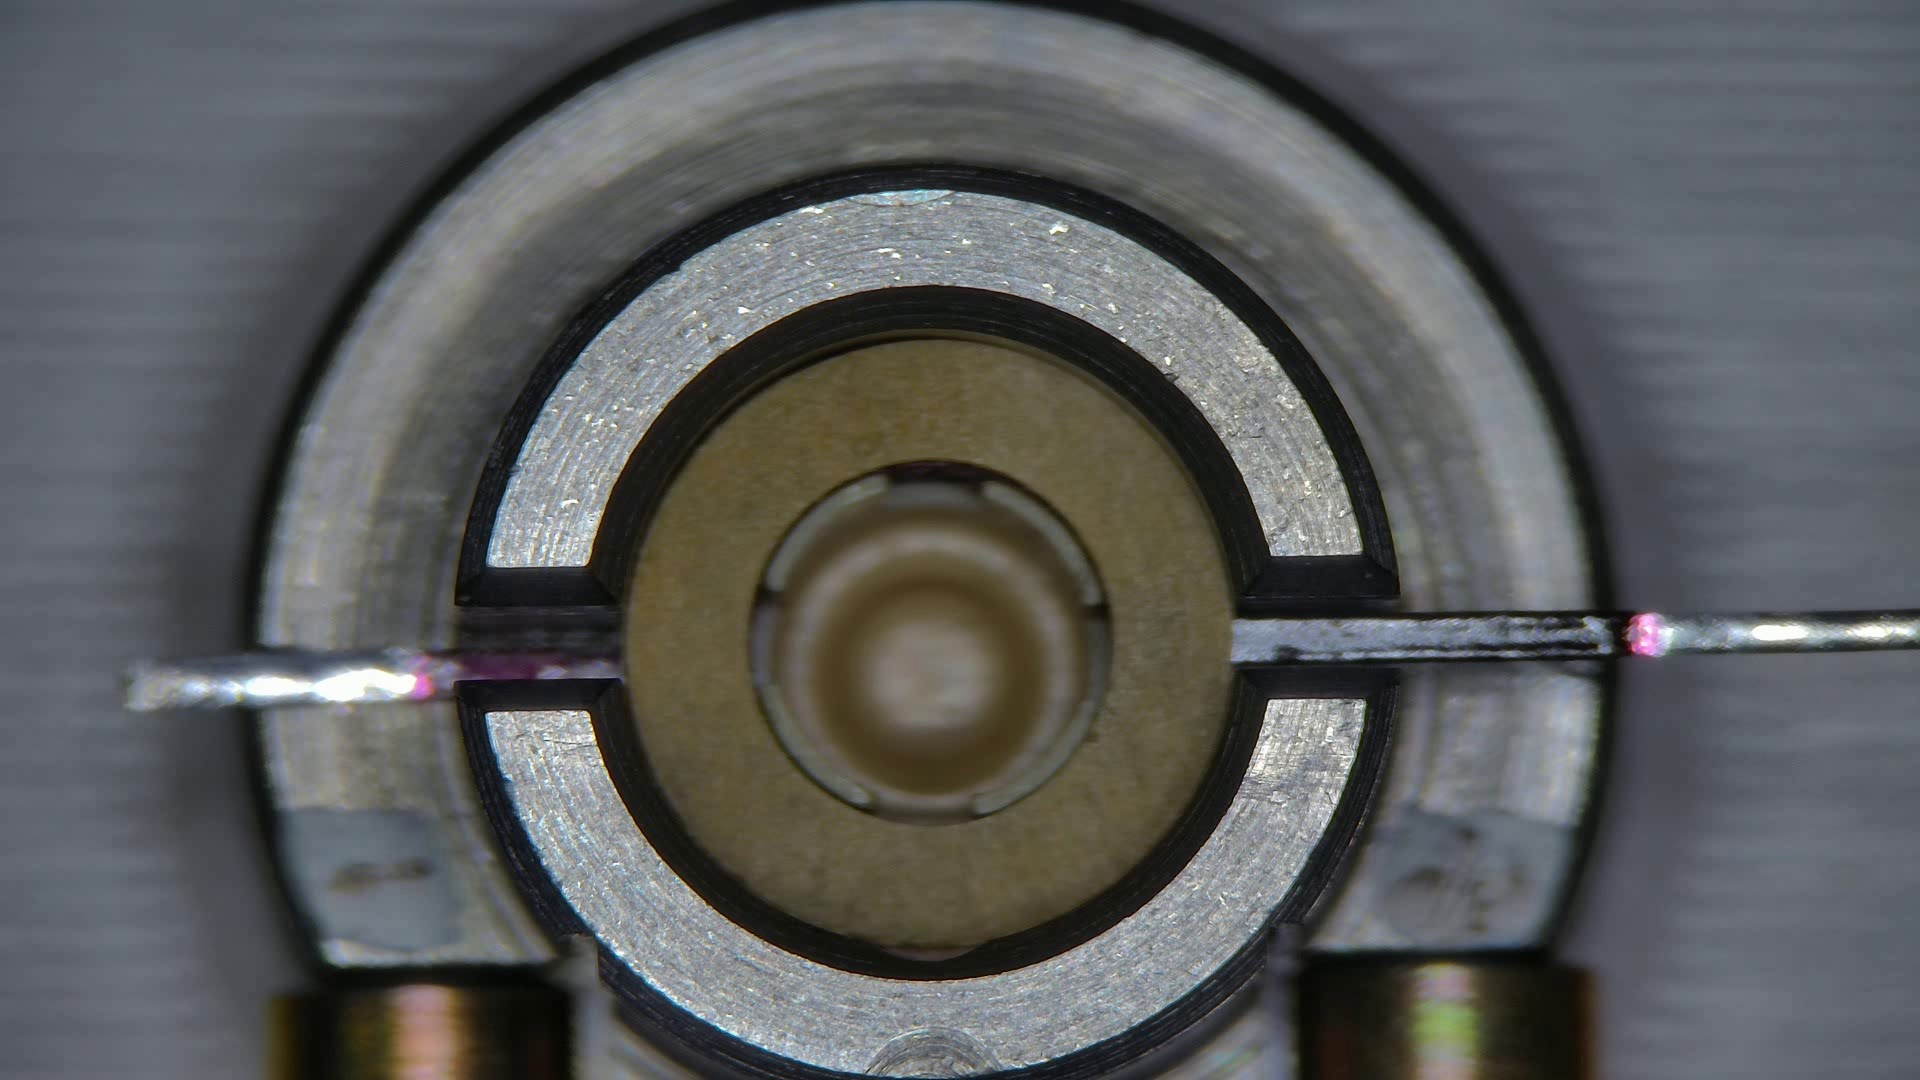redOring: (625, 340, 1232, 949)
